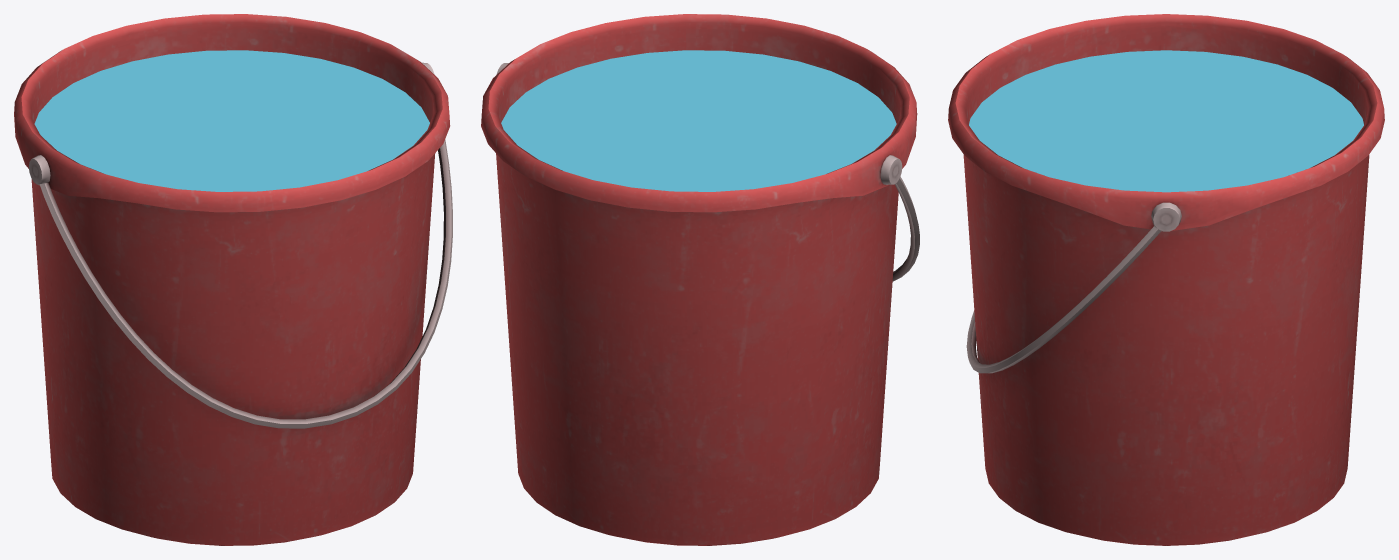
The model's file is bucket_water.fbx.
3 views of the same model, side by side, from view 1: azimuth 30°, elevation 25°; view 2: azimuth 150°, elevation 25°; view 3: azimuth 270°, elevation 25° (orthographic).
Parts seen in each view (by area): view 1: Plastic_Bucket, Circle; view 2: Plastic_Bucket, Circle; view 3: Plastic_Bucket, Circle.
Part boxes in pixels (bbox=[...]): Plastic_Bucket: bbox=[14, 14, 452, 545]; Circle: bbox=[34, 50, 429, 191]; Plastic_Bucket: bbox=[481, 14, 919, 545]; Circle: bbox=[501, 50, 896, 191]; Plastic_Bucket: bbox=[948, 14, 1384, 545]; Circle: bbox=[969, 50, 1363, 192].
Bounding box in the file's own units: 684 × 620 × 658.
